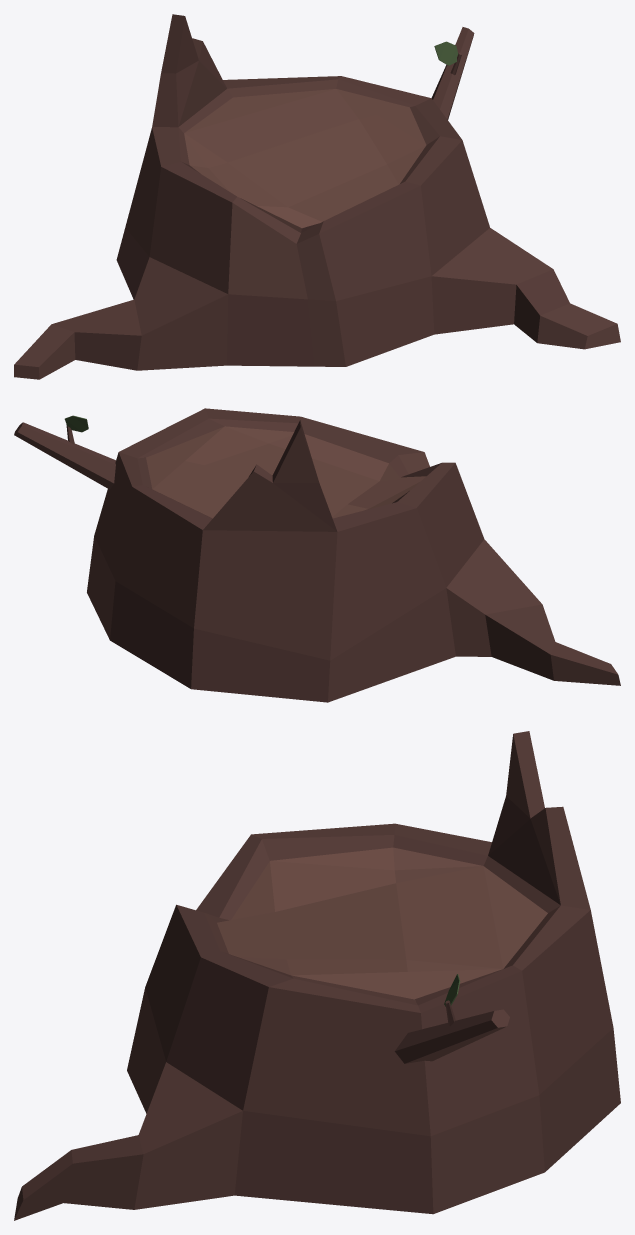
Rendered from nature_tree_stump.glb.
3 renders of one model, top to bottom at view 1: azimuth 30°, elevation 25°; view 2: azimuth 150°, elevation 25°; view 3: azimuth 270°, elevation 25°, orthographic. The views are drawn at different scales.
Parts seen in each view (by area): view 1: TreeStump; view 2: TreeStump; view 3: TreeStump.
Part boxes in pixels (left/top/right/bottom): TreeStump: left=14, top=14, right=620, bottom=379; TreeStump: left=14, top=408, right=620, bottom=702; TreeStump: left=14, top=731, right=620, bottom=1220.
Bounding box in the file's own units: 1.36 × 0.6216 × 1.03.
